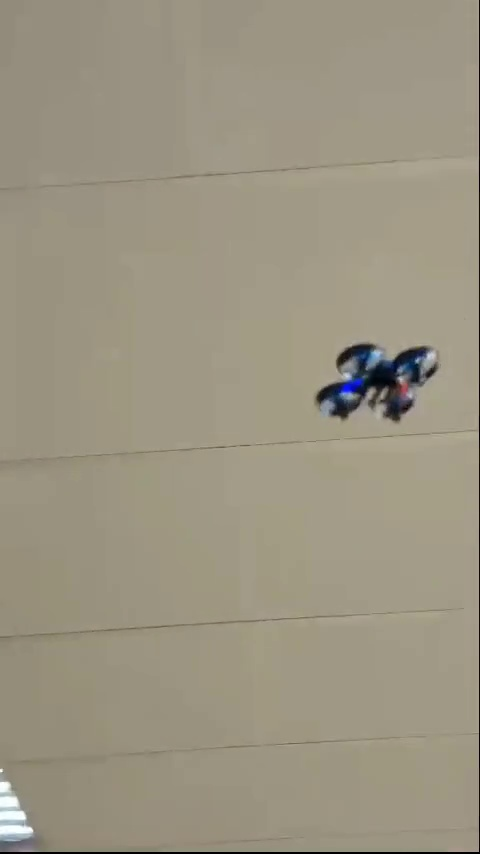drone: (312, 339, 439, 423)
